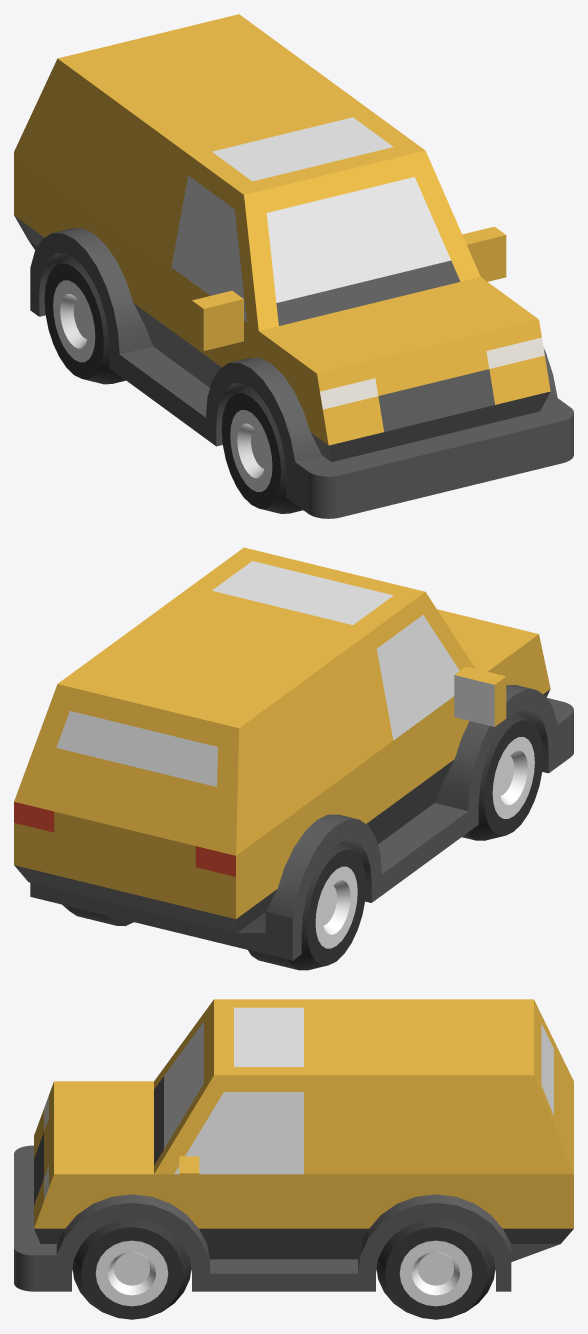
Rendered from suvLuxury.fbx.
The picture shows the model from 3 angles, top to bottom: view 1: azimuth 30°, elevation 25°; view 2: azimuth 150°, elevation 25°; view 3: azimuth 270°, elevation 25°; orthographic projection. The views are drawn at different scales.
Visible parts, largest first — view 1: body, wheel_frontRight, wheel_backRight; view 2: body, wheel_backRight, wheel_frontRight; view 3: body, wheel_backLeft, wheel_frontLeft.
Part boxes in pixels (x1,y1,x2,y2): body: [14, 14, 573, 518]; wheel_frontRight: [221, 384, 302, 513]; wheel_backRight: [44, 255, 125, 384]; body: [14, 547, 573, 960]; wheel_backRight: [248, 841, 366, 970]; wheel_frontRight: [462, 711, 543, 840]; body: [14, 999, 573, 1291]; wheel_backLeft: [376, 1219, 495, 1319]; wheel_frontLeft: [72, 1219, 191, 1319].
Bounding box in the file's own units: 15 × 13 × 28.
